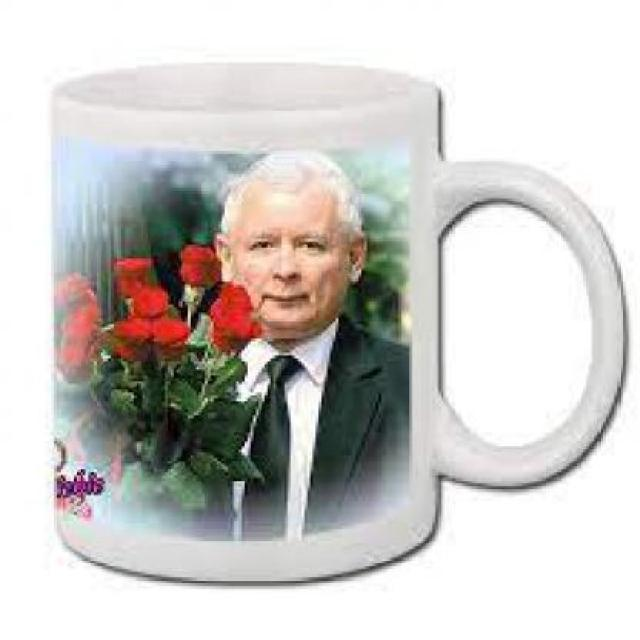cup: (34, 60, 634, 592)
